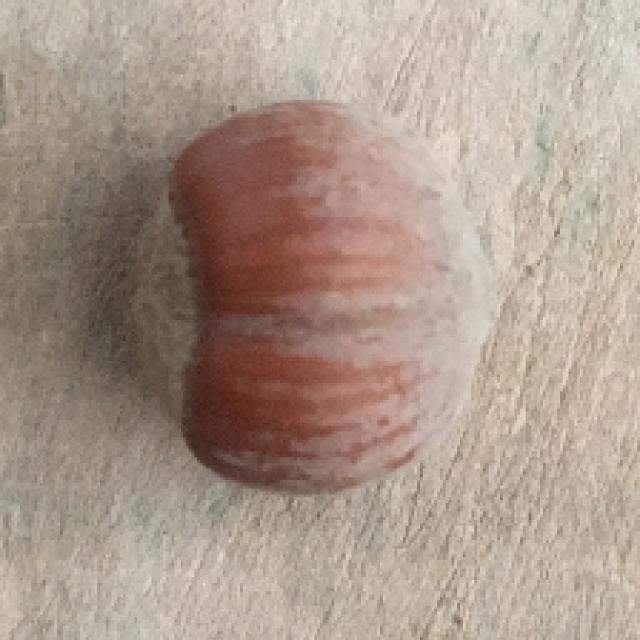QualityHazelnut: (125, 99, 500, 493)
